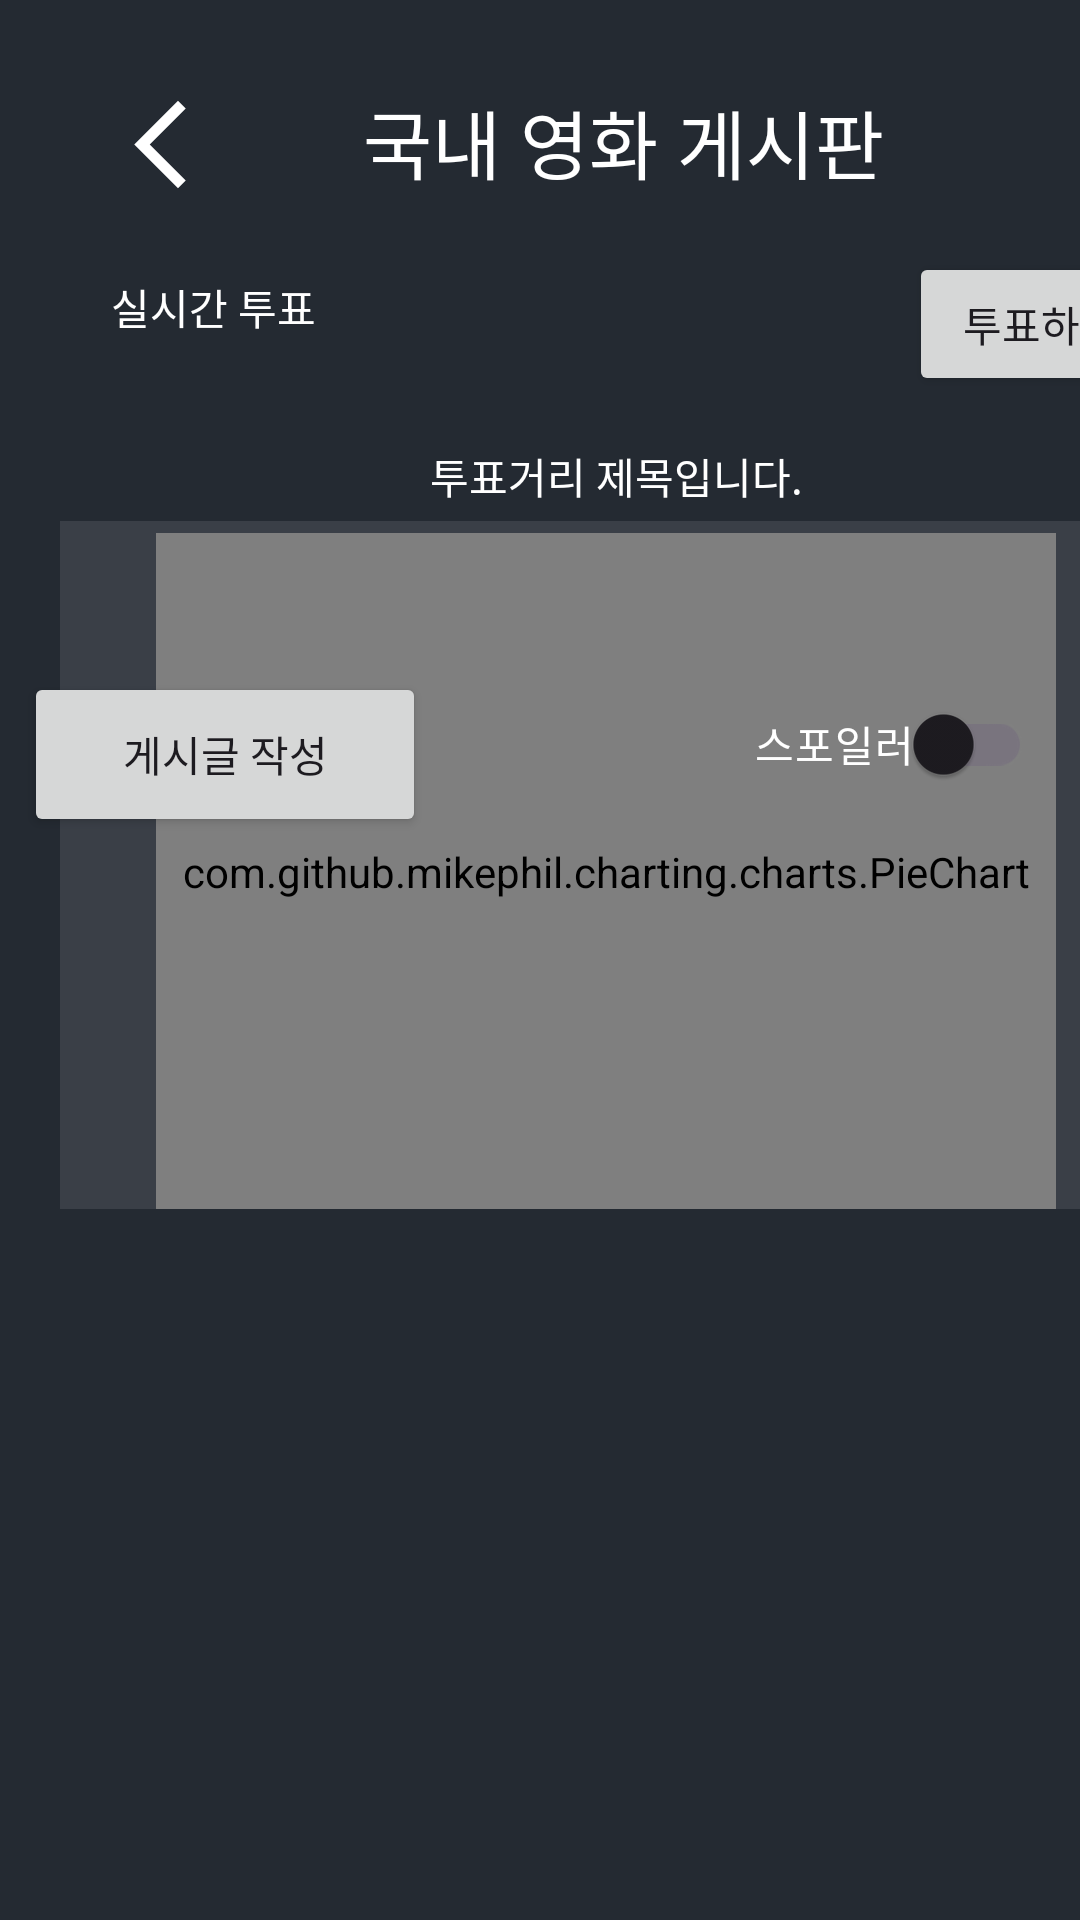

Icons on this 1080 × 1920 Android screen, each with its box as (x1, y1, x2, y2):
arrow back: (134, 101, 186, 188)
